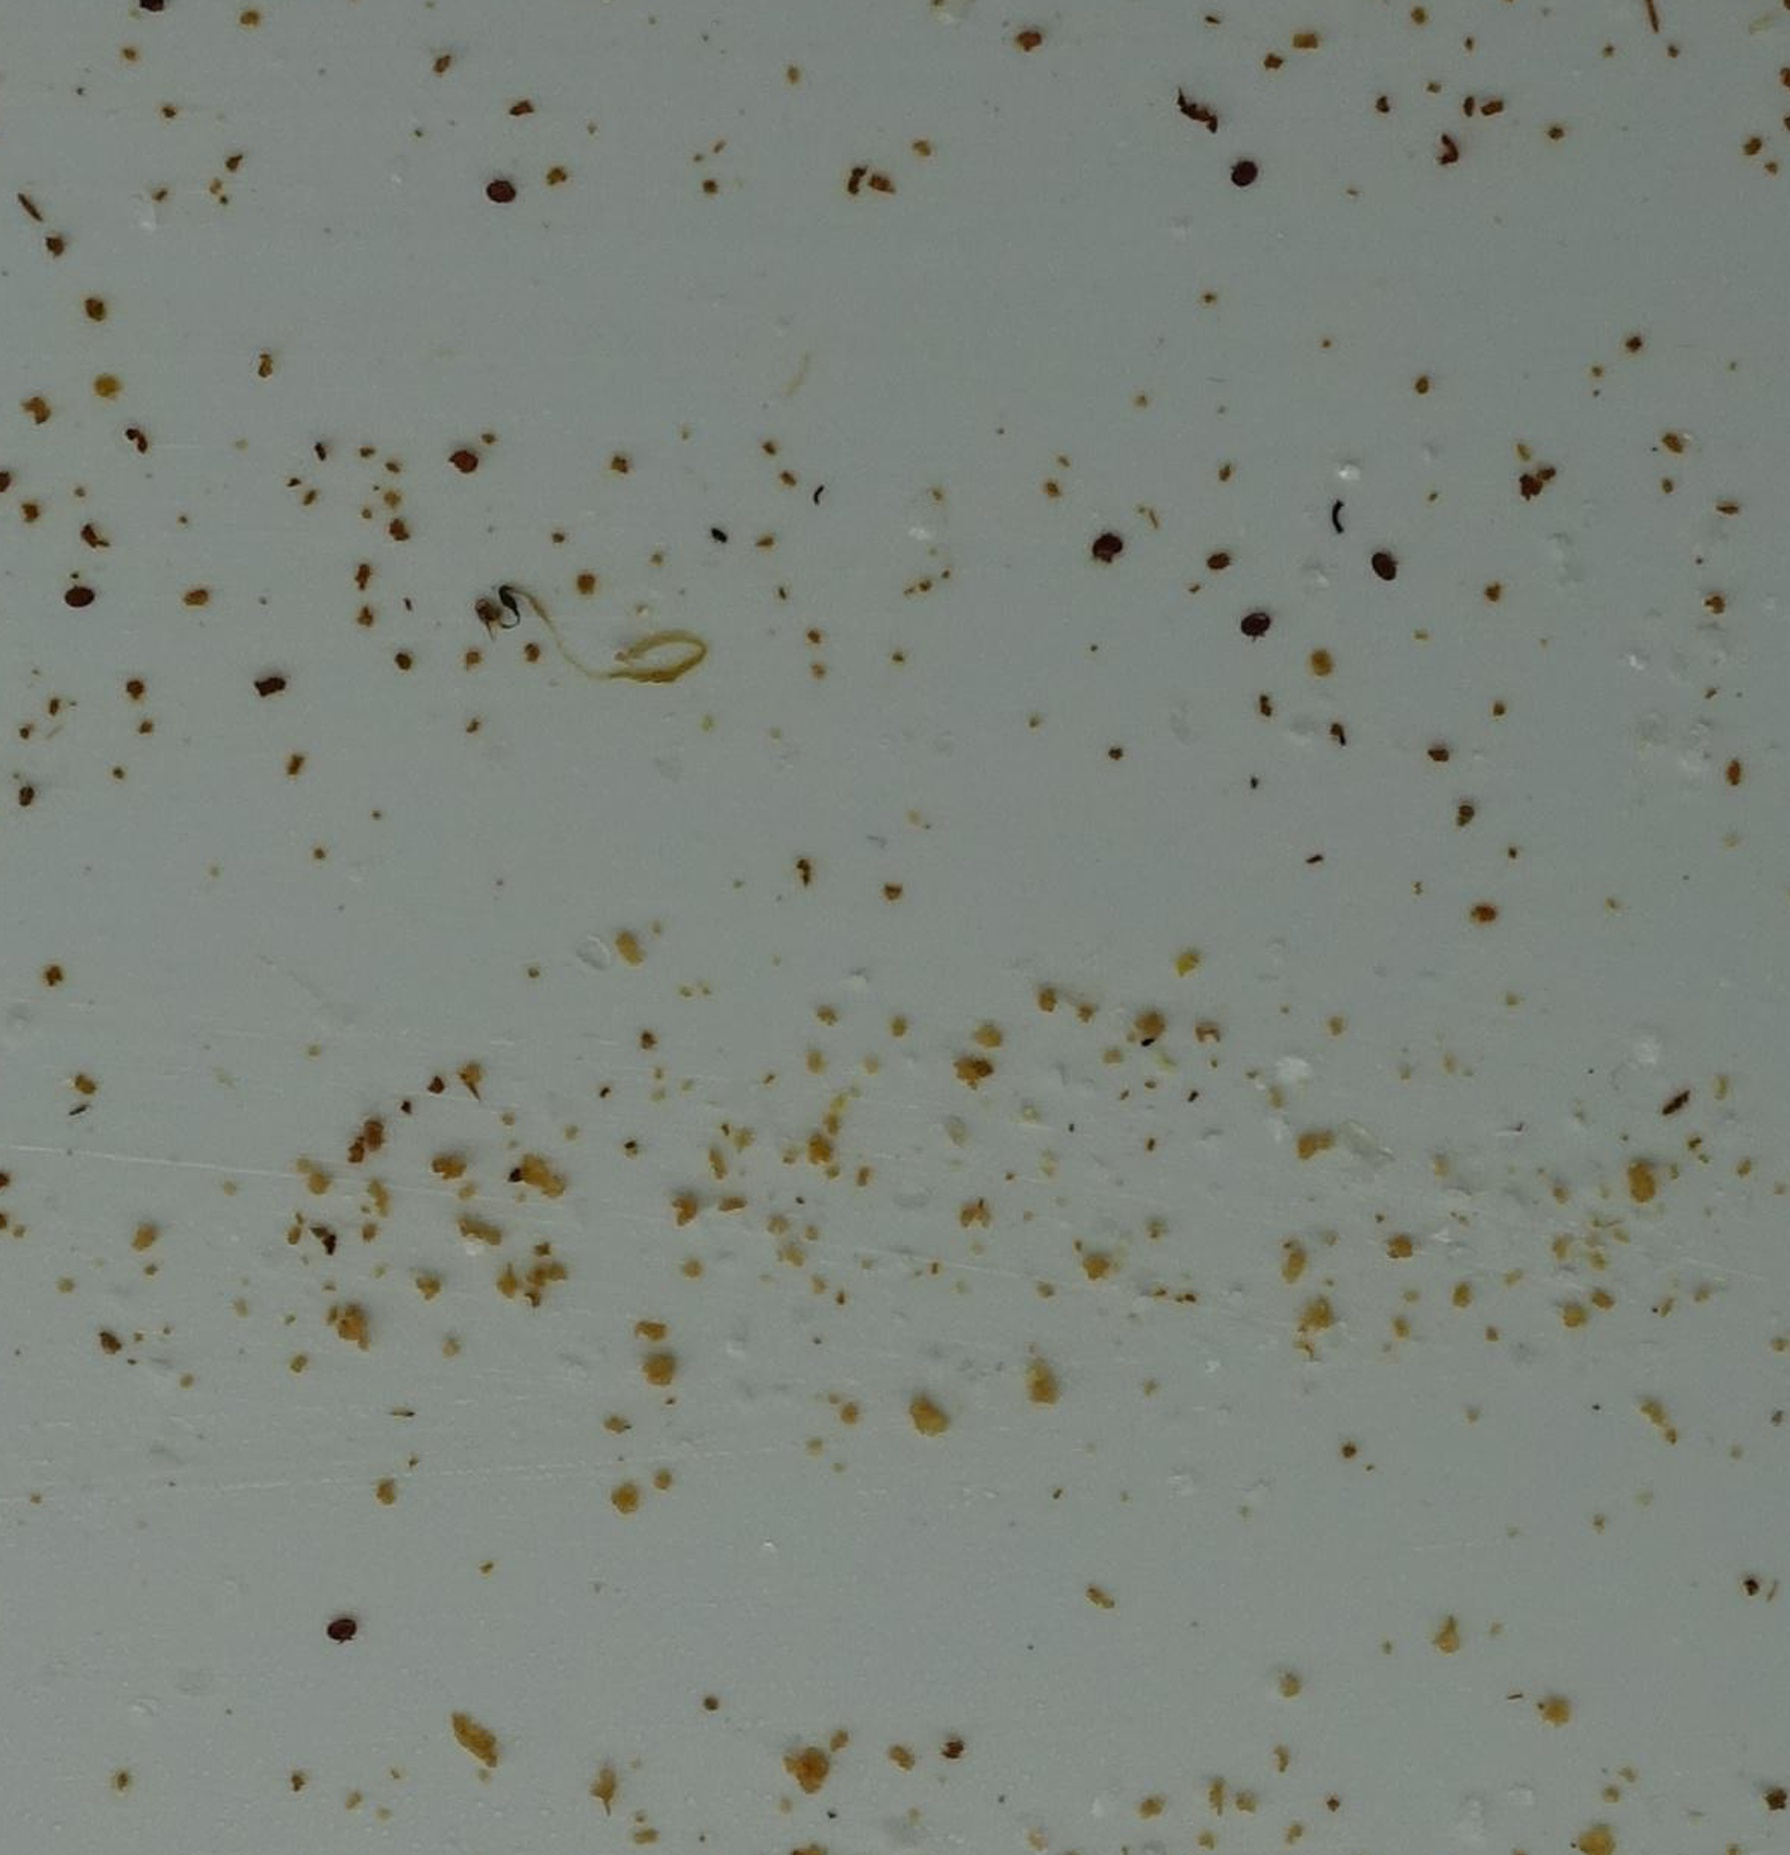Varroa: (1244, 613, 1280, 649), (325, 1613, 358, 1648), (1368, 550, 1399, 585), (1090, 533, 1121, 566), (1227, 161, 1258, 194), (63, 581, 94, 614), (487, 176, 515, 205)
